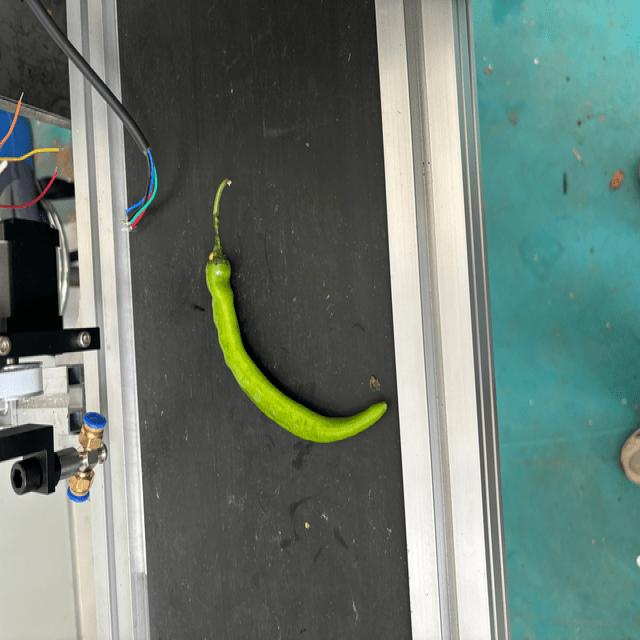chili: (203, 248, 390, 443)
